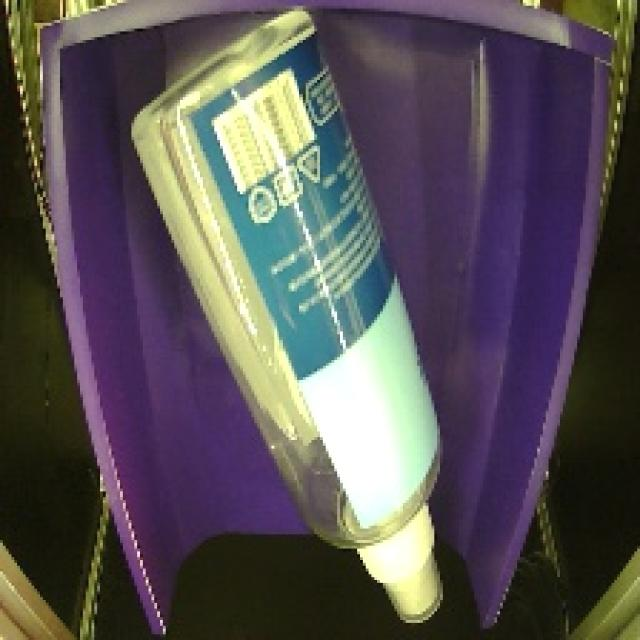plastic: (109, 5, 470, 633)
